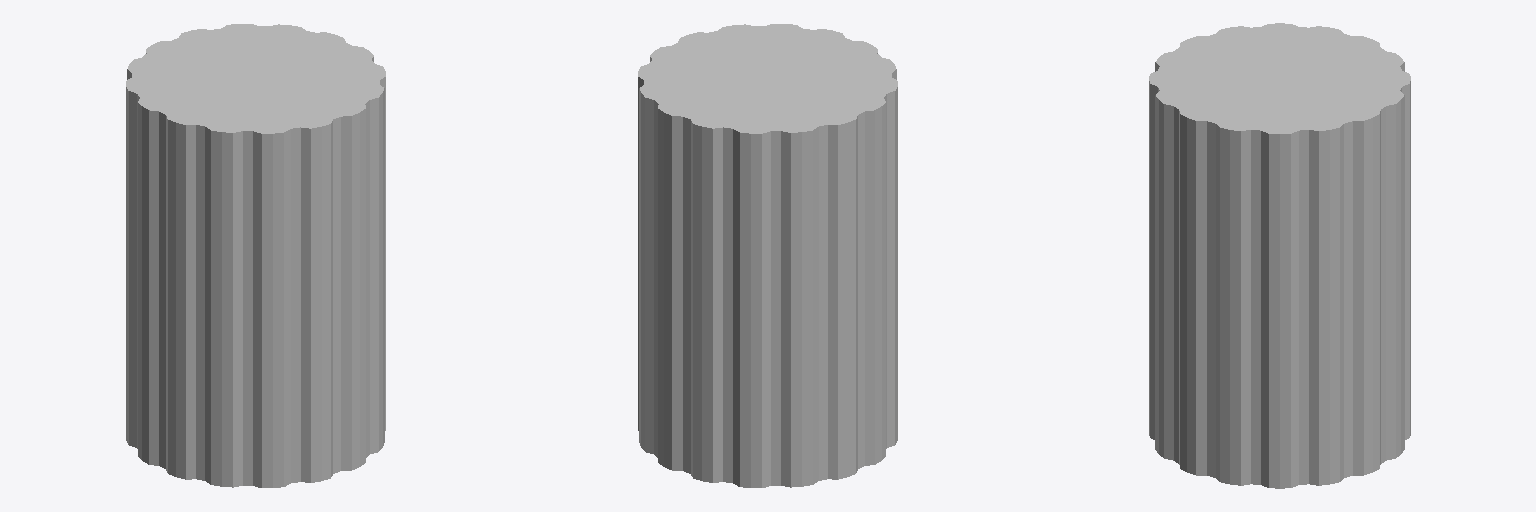
File: Marblepillarbody.obj
3 views of the same model, side by side, from view 1: azimuth 30°, elevation 25°; view 2: azimuth 150°, elevation 25°; view 3: azimuth 270°, elevation 25° (orthographic).
Visible parts, largest first — view 1: Circle; view 2: Circle; view 3: Circle.
Boxes of the visible parts, x1=… form: Circle: x1=126, y1=24, x2=385, y2=487; Circle: x1=638, y1=24, x2=897, y2=487; Circle: x1=1149, y1=23, x2=1410, y2=488.
Bounding box in the file's own units: 0.6702 × 0.9998 × 0.6702.